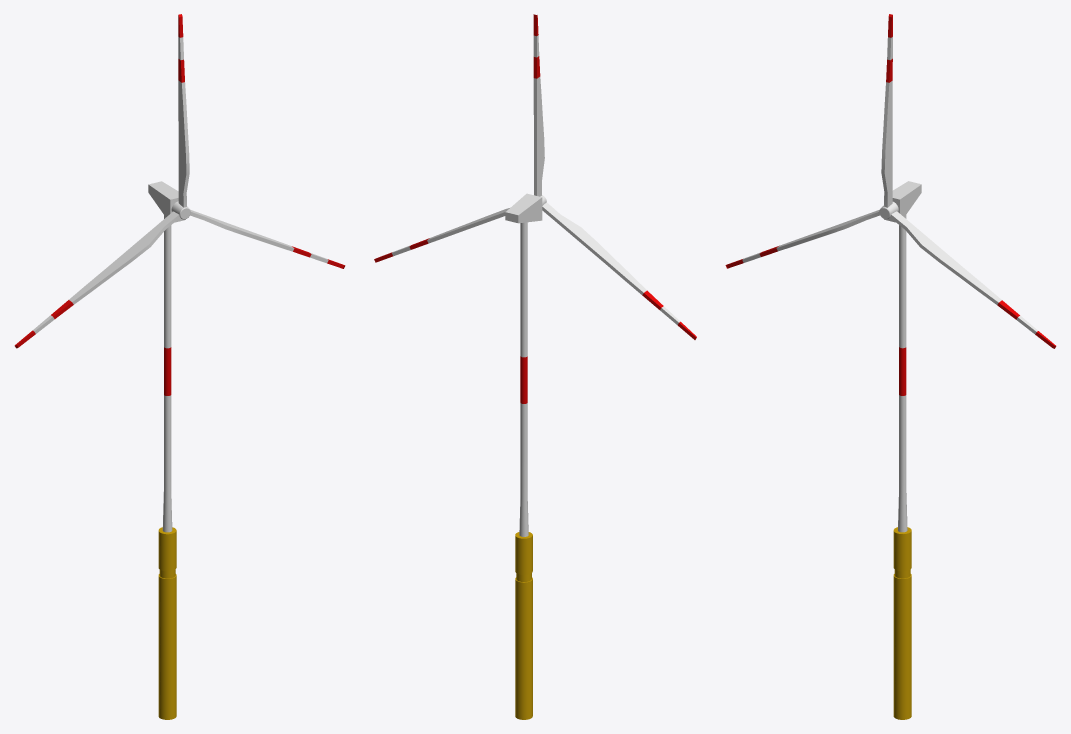
File: WindTurbine.fbx
The picture shows the model from 3 angles, left to right: view 1: azimuth 30°, elevation 25°; view 2: azimuth 150°, elevation 25°; view 3: azimuth 330°, elevation 25°; orthographic projection. The views are drawn at different scales.
Parts seen in each view (by area): view 1: pCube6, pCube5; view 2: pCube6, pCube5; view 3: pCube6, pCube5.
Part boxes in pixels (<box>): pCube6: <box>148,181,185,719</box>; pCube5: <box>14,14,345,348</box>; pCube6: <box>505,193,542,719</box>; pCube5: <box>374,14,696,339</box>; pCube6: <box>884,181,921,719</box>; pCube5: <box>725,14,1056,348</box>.
Size of the model in its own units: 2590 by 5317 by 442.
